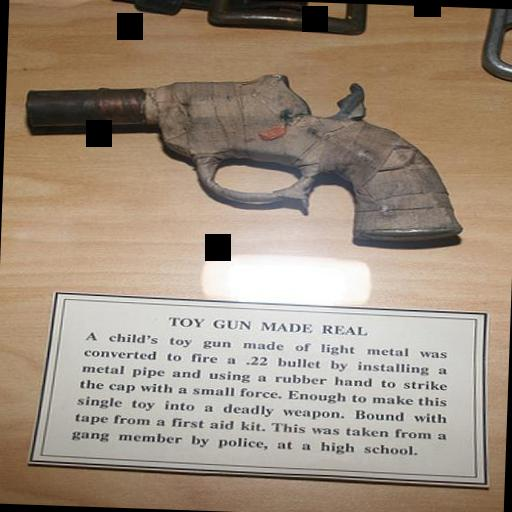Handgun: (12, 58, 470, 250)
